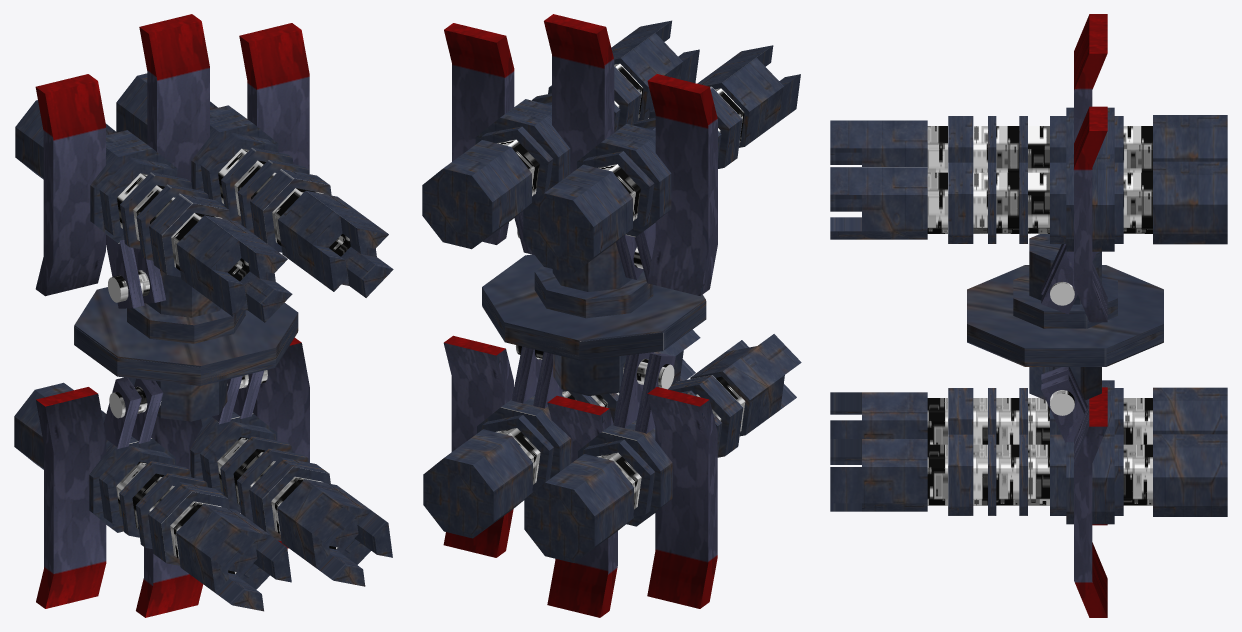
File: Turret1.fbx
3 views of the same model, side by side, from view 1: azimuth 30°, elevation 25°; view 2: azimuth 150°, elevation 25°; view 3: azimuth 270°, elevation 25° (orthographic). The views are drawn at different scales.
Parts seen in each view (by area): view 1: polySurface51; view 2: polySurface51; view 3: polySurface51.
Part boxes in pixels (x1=…): polySurface51: x1=14, y1=14, x2=393, y2=617; polySurface51: x1=422, y1=14, x2=801, y2=617; polySurface51: x1=830, y1=14, x2=1227, y2=617.
Size of the model in its own units: 0.7061 by 1.53 by 1.
1 material, 1 textured.
